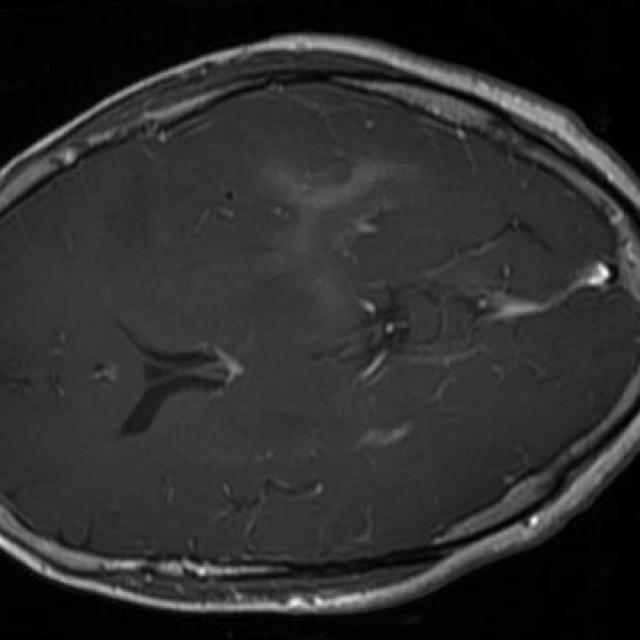glioma: (269, 162, 415, 298)
